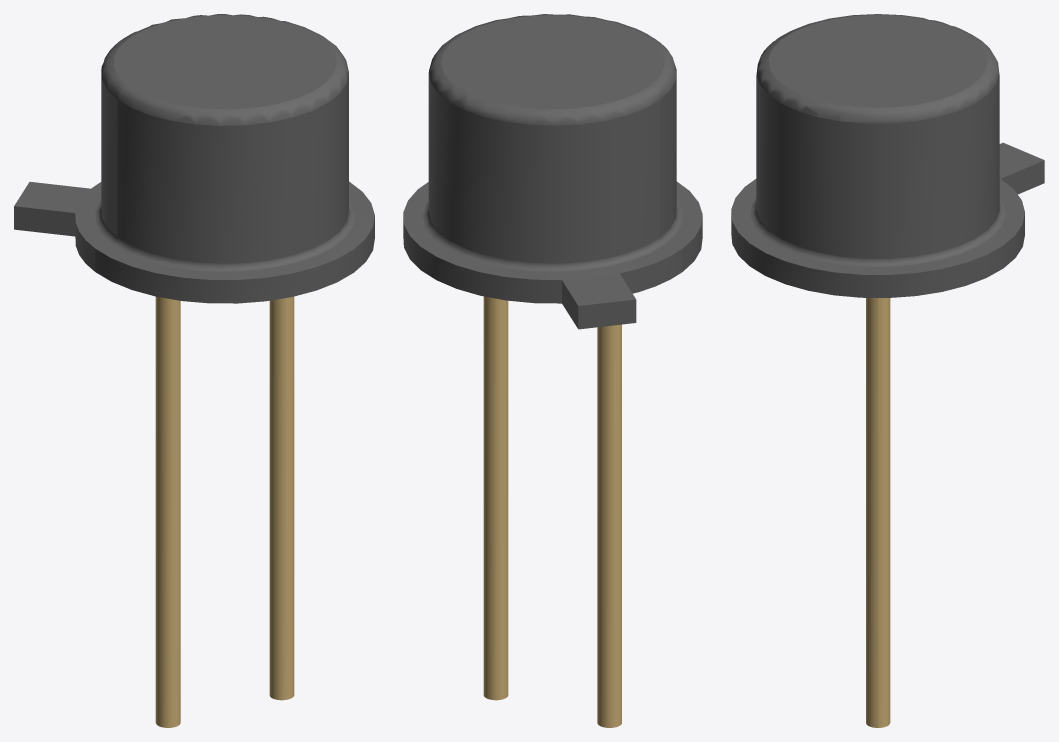
The picture shows the model from 3 angles, left to right: view 1: azimuth 30°, elevation 25°; view 2: azimuth 150°, elevation 25°; view 3: azimuth 270°, elevation 25°; orthographic projection.
Parts seen in each view (by area): view 1: 0.16666666666666666_0.16666666666666666_0.16666666666666666_, 0.75_0.5_0.25_0.9; view 2: 0.16666666666666666_0.16666666666666666_0.16666666666666666_, 0.75_0.5_0.25_0.9; view 3: 0.16666666666666666_0.16666666666666666_0.16666666666666666_, 0.75_0.5_0.25_0.9.
Boxes of the visible parts, x1,y1,x2,y2 form: 0.16666666666666666_0.16666666666666666_0.16666666666666666_: [14, 14, 374, 303]; 0.75_0.5_0.25_0.9: [155, 296, 294, 727]; 0.16666666666666666_0.16666666666666666_0.16666666666666666_: [403, 14, 702, 329]; 0.75_0.5_0.25_0.9: [483, 296, 621, 727]; 0.16666666666666666_0.16666666666666666_0.16666666666666666_: [731, 14, 1044, 297]; 0.75_0.5_0.25_0.9: [866, 298, 890, 727].
Bounding box in the file's own units: 0.618 × 1.38 × 0.6183.
